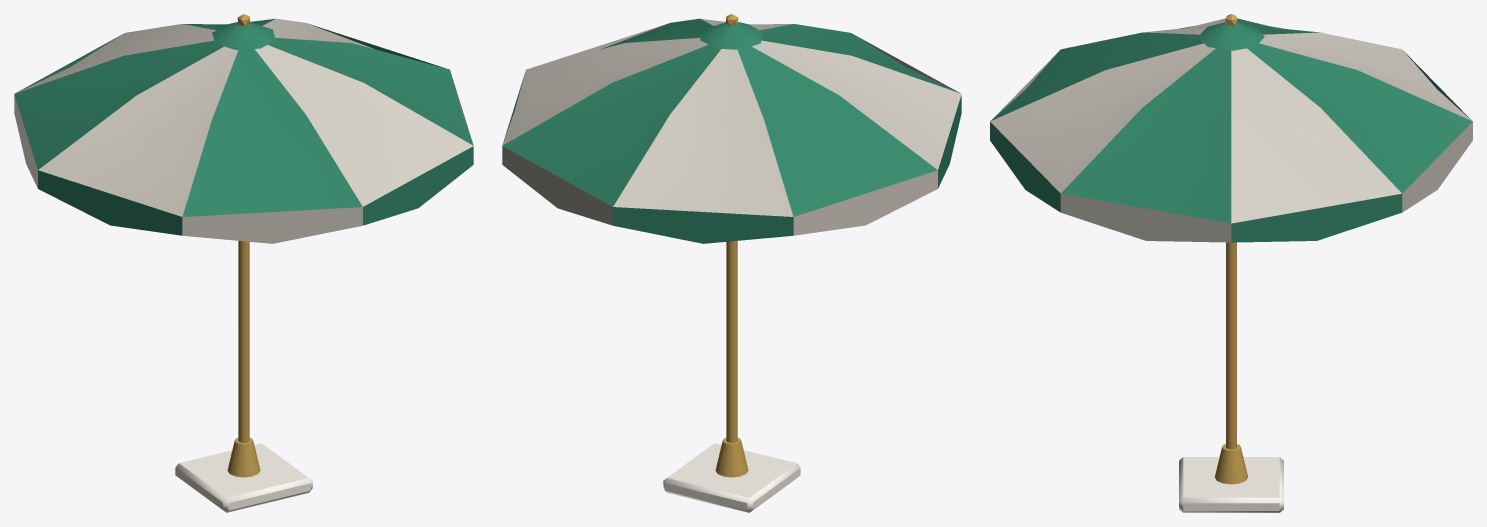
The model's file is umbrella_cafe.glb.
The picture shows the model from 3 angles, left to right: view 1: azimuth 30°, elevation 25°; view 2: azimuth 150°, elevation 25°; view 3: azimuth 270°, elevation 25°; orthographic projection.
Parts seen in each view (by area): view 1: body; view 2: body; view 3: body.
Part boxes in pixels (x1,y1,x2,y2): body: [14, 14, 473, 512]; body: [502, 14, 961, 512]; body: [990, 14, 1472, 512].
Bounding box in the file's own units: 2.3 × 2.52 × 2.3.
